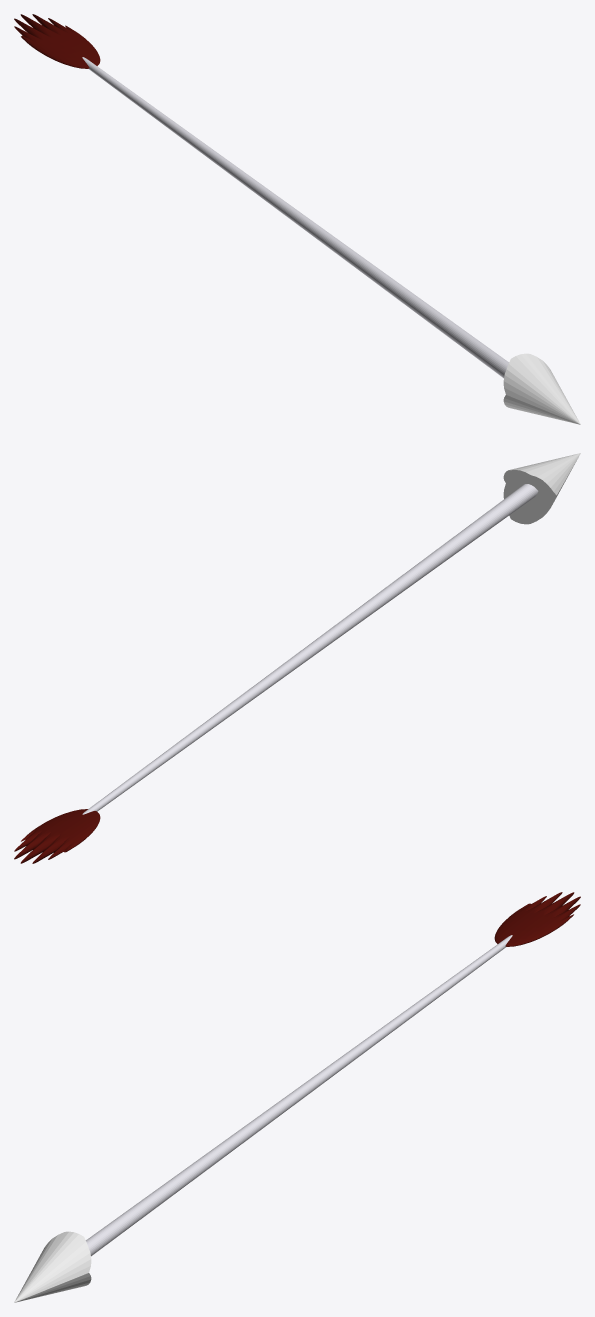
Rendered from arrownew.fbx.
3 renders of one model, top to bottom at view 1: azimuth 30°, elevation 25°; view 2: azimuth 150°, elevation 25°; view 3: azimuth 330°, elevation 25°, orthographic.
Visible parts, largest first — view 1: Arrow; view 2: Arrow; view 3: Arrow.
Part boxes in pixels (bbox=[...]): Arrow: bbox=[14, 14, 580, 424]; Arrow: bbox=[14, 453, 580, 863]; Arrow: bbox=[14, 892, 580, 1302].
Size of the model in its own units: 6.57 by 6.57 by 126.
